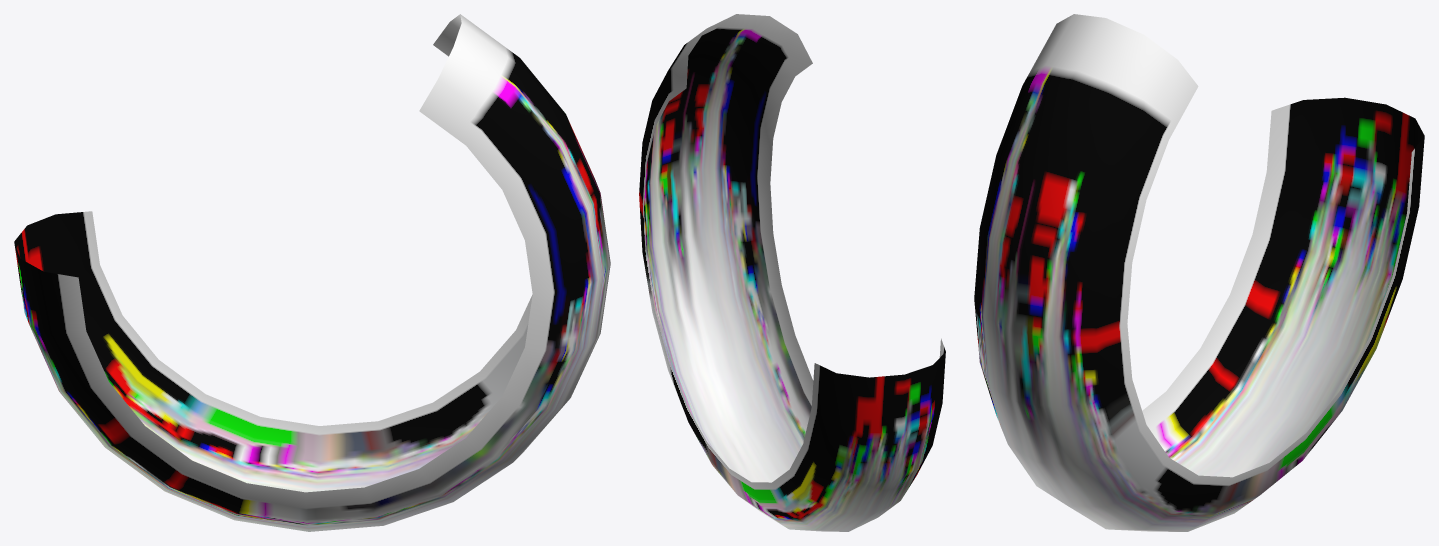
The model's file is light_01_1_29719318__light_01_01_7ed8d1ff_c1f257.obj.
3 renders of one model, left to right at view 1: azimuth 30°, elevation 25°; view 2: azimuth 150°, elevation 25°; view 3: azimuth 270°, elevation 25°, orthographic. The views are drawn at different scales.
Size of the model in its own units: 4.5 by 4.83 by 3.58.
Materials: 1 (1 with a texture image).
